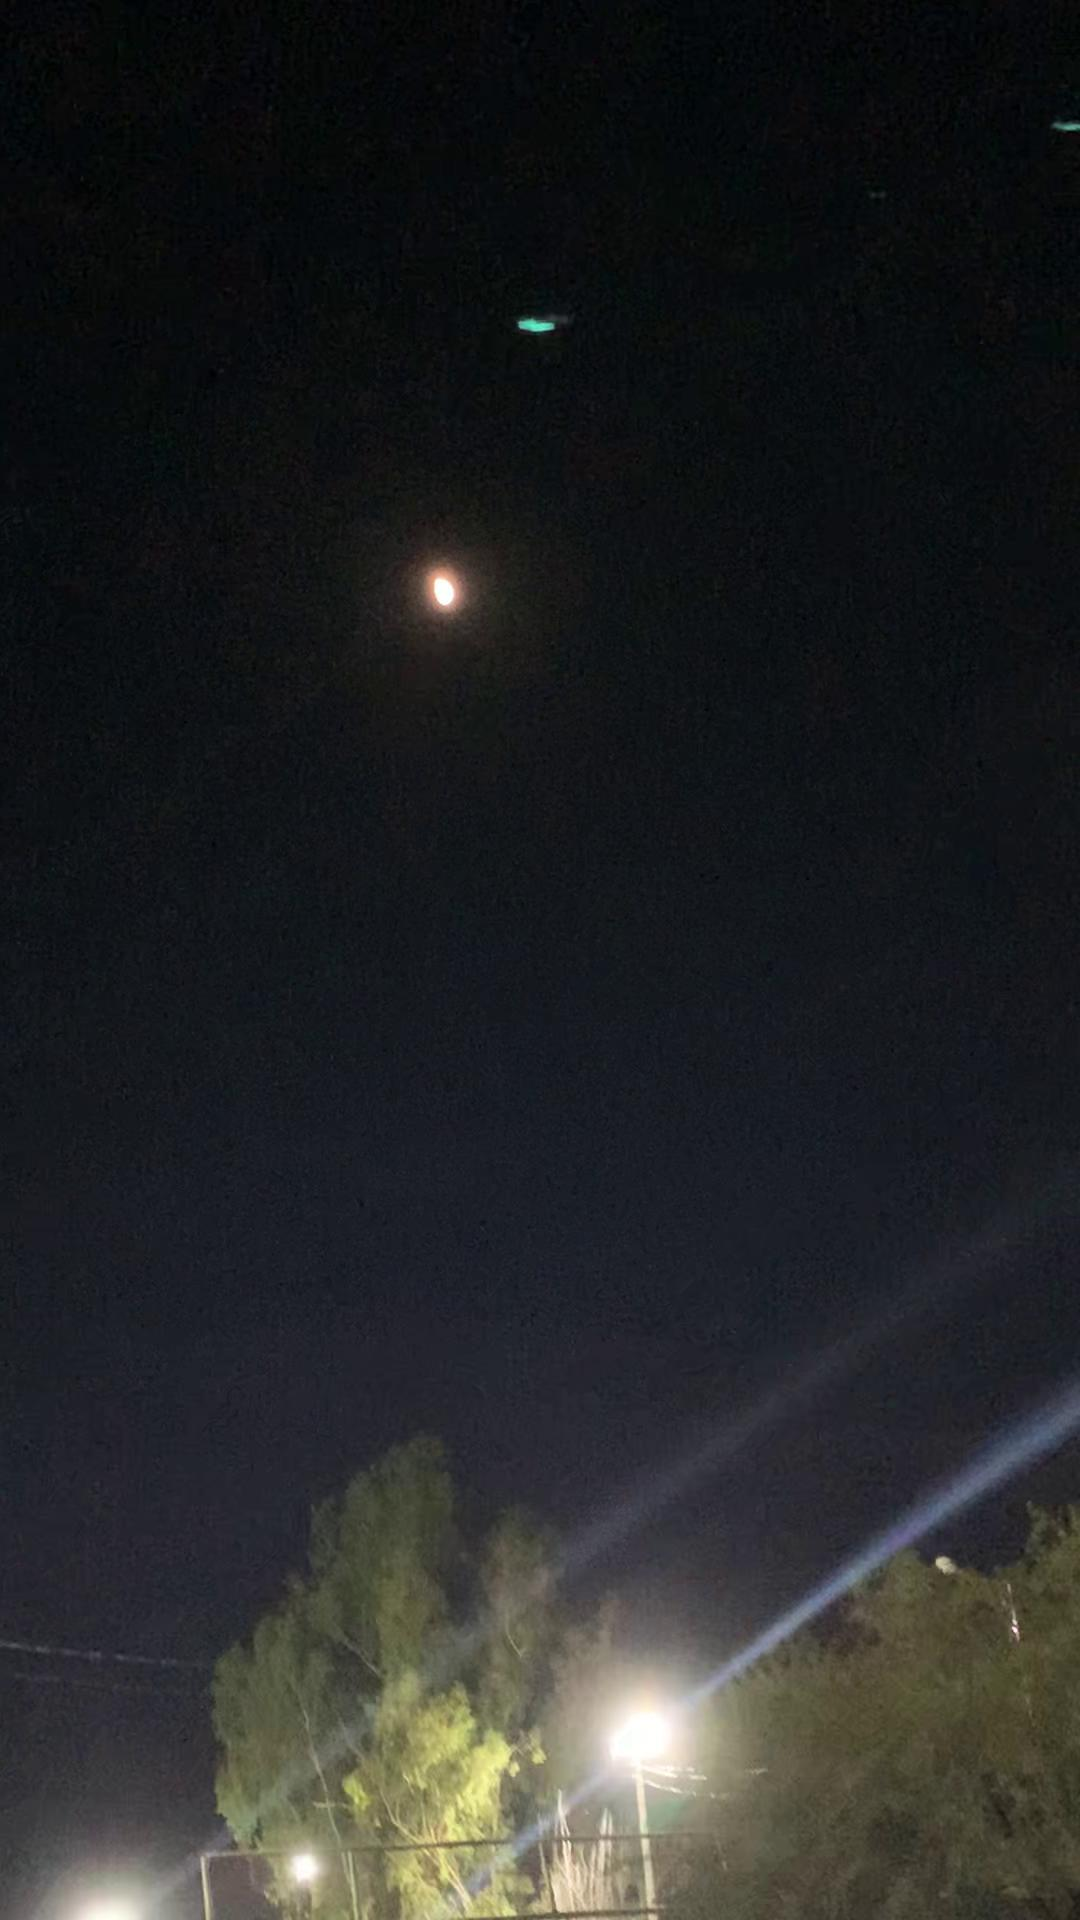moon: (407, 556, 484, 636)
